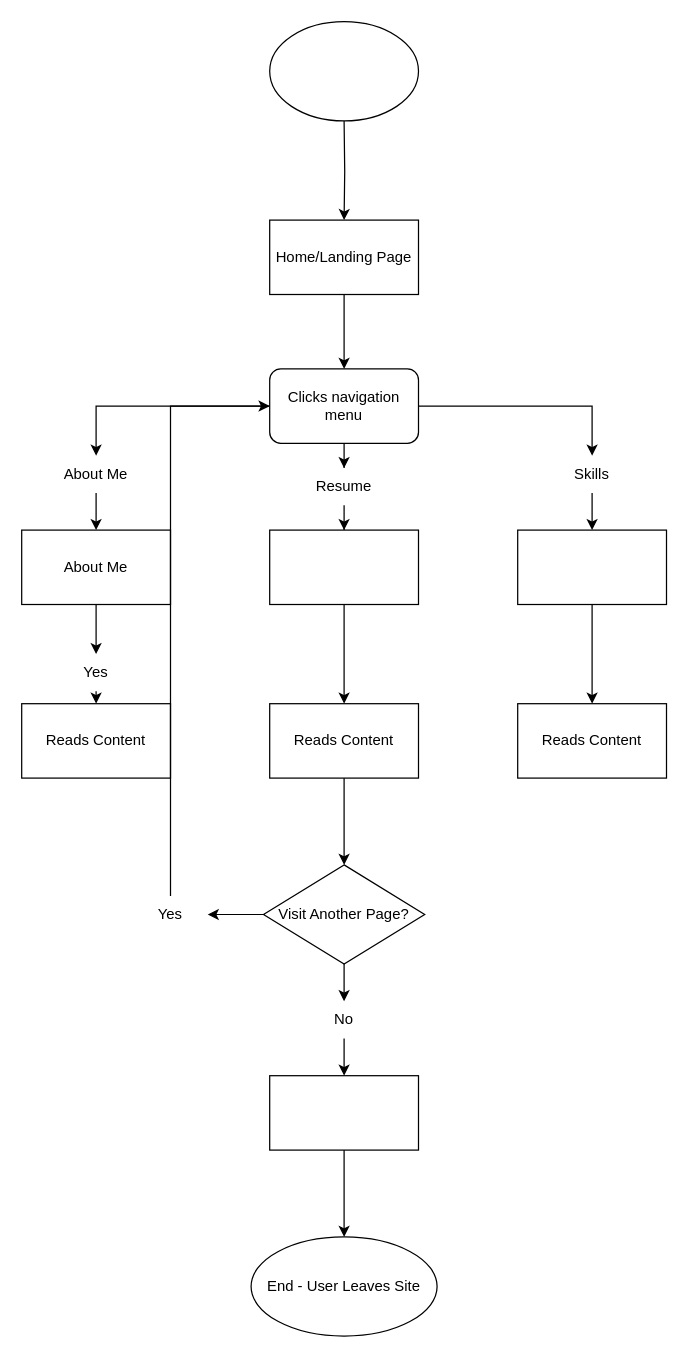
The diagram is 688 pixels wide and 1358 high, and some of its shapes have lost their labels. The centre of each missing label's shape, as x and y in pixels:
"Resume Page" goes at point (343, 566).
"Shares or bookmarks site" goes at point (343, 1112).
"Skills Page" goes at point (591, 566).
"Start - User Arrives at Site" goes at point (343, 70).
